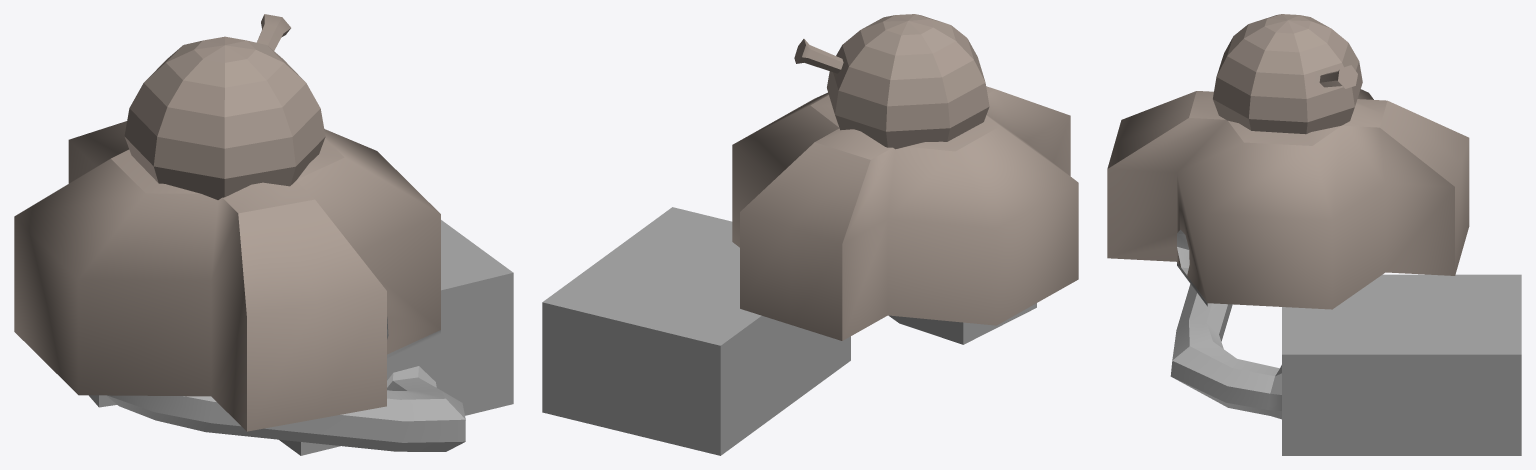
The model's file is Building_Science.fbx.
3 renders of one model, left to right at view 1: azimuth 30°, elevation 25°; view 2: azimuth 150°, elevation 25°; view 3: azimuth 270°, elevation 25°, orthographic. The views are drawn at different scales.
Visible parts, largest first — view 1: pCube49; view 2: pCube49; view 3: pCube49.
Part boxes in pixels (x1=…): pCube49: x1=14, y1=14, x2=513, y2=455; pCube49: x1=542, y1=14, x2=1078, y2=455; pCube49: x1=1107, y1=14, x2=1521, y2=455.
Size of the model in its own units: 17.41 by 15.4 by 17.61.
